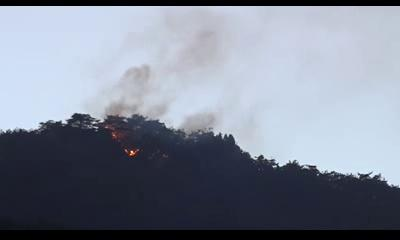fire: (108, 122, 145, 158)
smoke: (111, 66, 196, 108)
